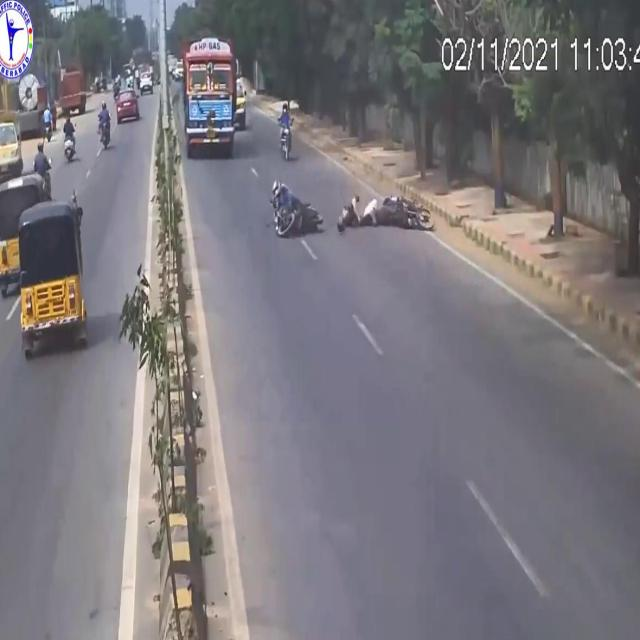accident: (266, 161, 437, 248)
non_accident: (0, 132, 94, 381), (181, 33, 253, 165), (95, 37, 161, 159)
